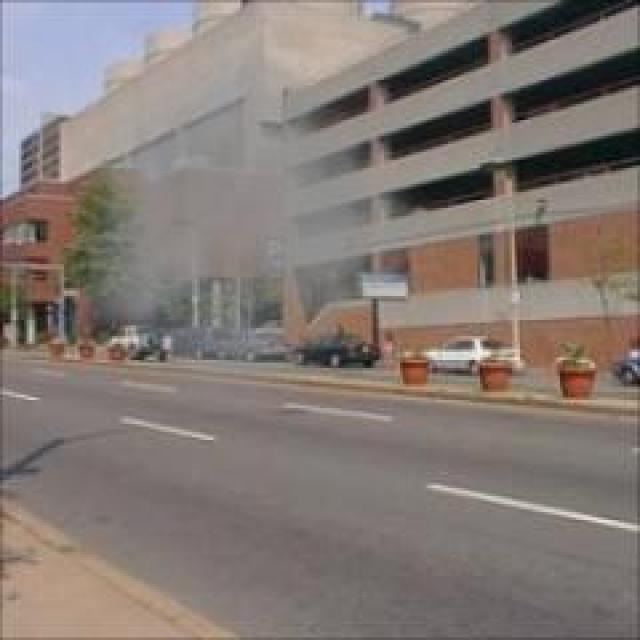Smoke: (81, 32, 422, 395)
